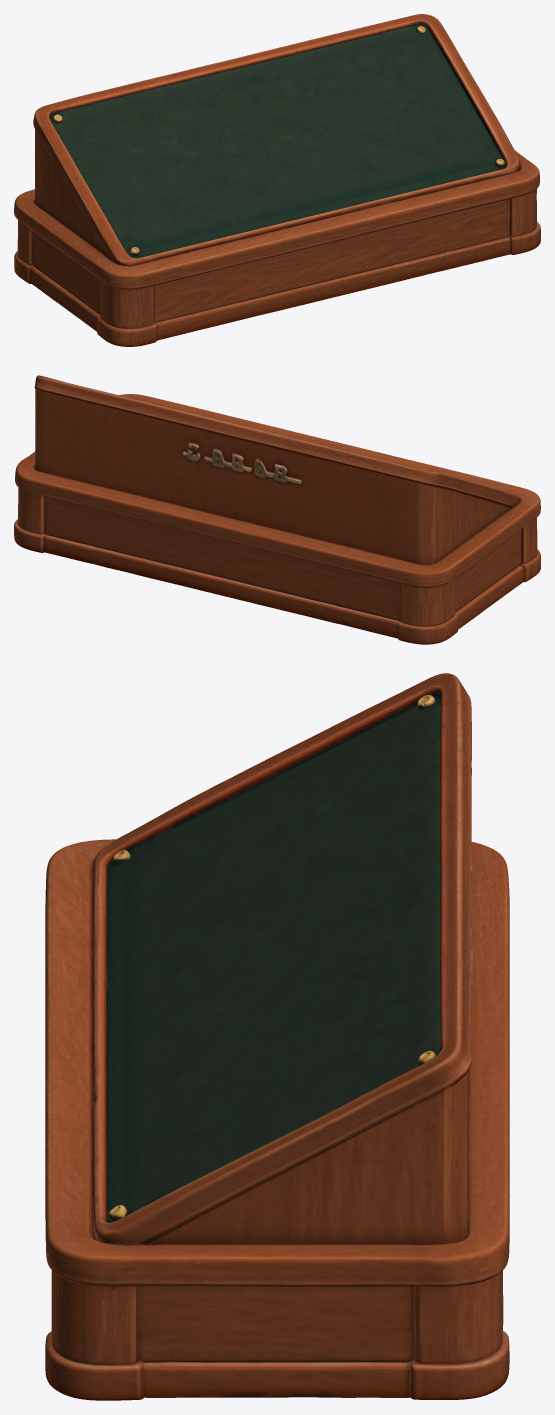
The model's file is b17_stand.glb.
3 renders of one model, top to bottom at view 1: azimuth 30°, elevation 25°; view 2: azimuth 150°, elevation 25°; view 3: azimuth 270°, elevation 25°, orthographic. The views are drawn at different scales.
Parts seen in each view (by area): view 1: tripo_node_84b2d311-b5f8-48ab-a2dd-188a80dea473; view 2: tripo_node_84b2d311-b5f8-48ab-a2dd-188a80dea473; view 3: tripo_node_84b2d311-b5f8-48ab-a2dd-188a80dea473.
Boxes of the visible parts, x1,y1,x2,y2 form: tripo_node_84b2d311-b5f8-48ab-a2dd-188a80dea473: [14, 14, 540, 346]; tripo_node_84b2d311-b5f8-48ab-a2dd-188a80dea473: [14, 375, 540, 644]; tripo_node_84b2d311-b5f8-48ab-a2dd-188a80dea473: [45, 673, 509, 1400].
Bounding box in the file's own units: 0.9799 × 0.3558 × 0.4543.
1 material, 1 textured.
